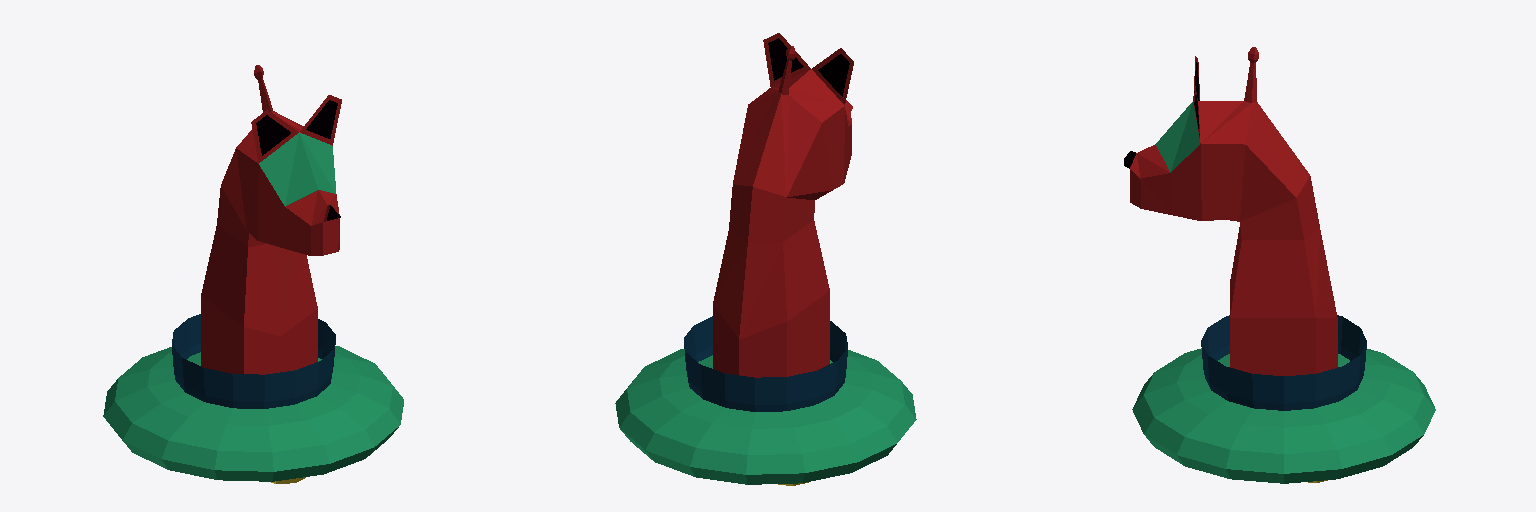
File: AlienDog.obj
The picture shows the model from 3 angles: view 1: azimuth 30°, elevation 25°; view 2: azimuth 150°, elevation 25°; view 3: azimuth 270°, elevation 25°; orthographic projection.
Visible parts, largest first — view 1: Sphere.001; view 2: Sphere.001; view 3: Sphere.001.
Part boxes in pixels (x1,y1,x2,y2): Sphere.001: (103, 65, 403, 483); Sphere.001: (615, 33, 916, 485); Sphere.001: (1124, 47, 1435, 483).
Size of the model in its own units: 2 by 2.95 by 2.05.